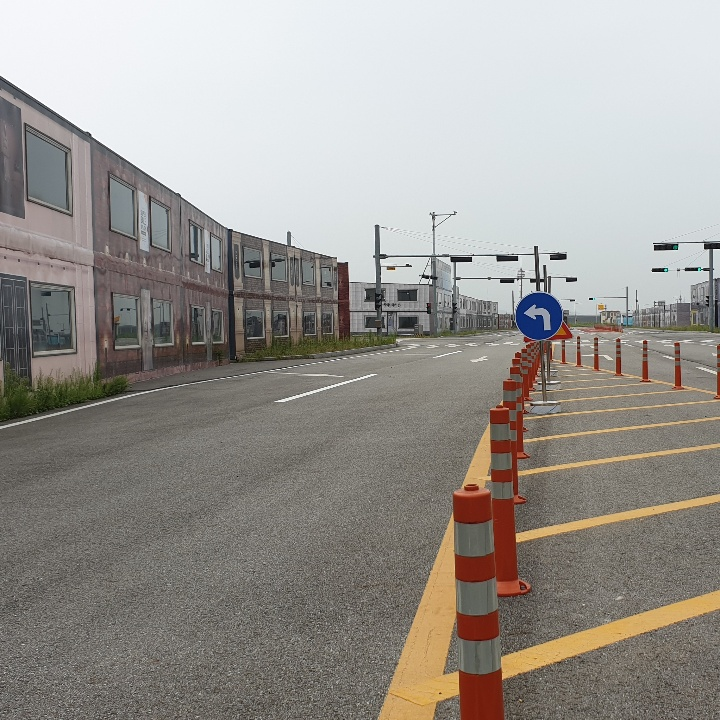left: (520, 297, 557, 336)
